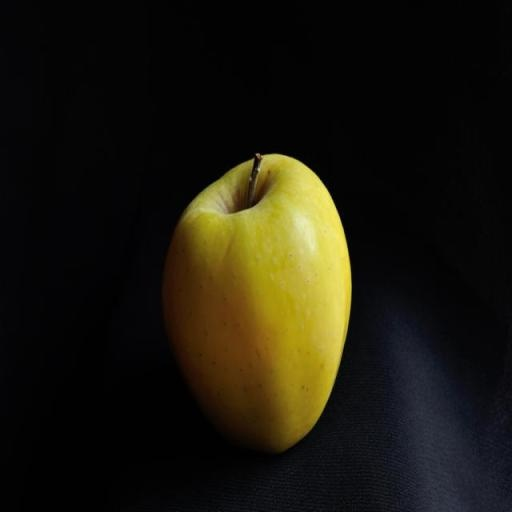fruit: (162, 155, 350, 452)
